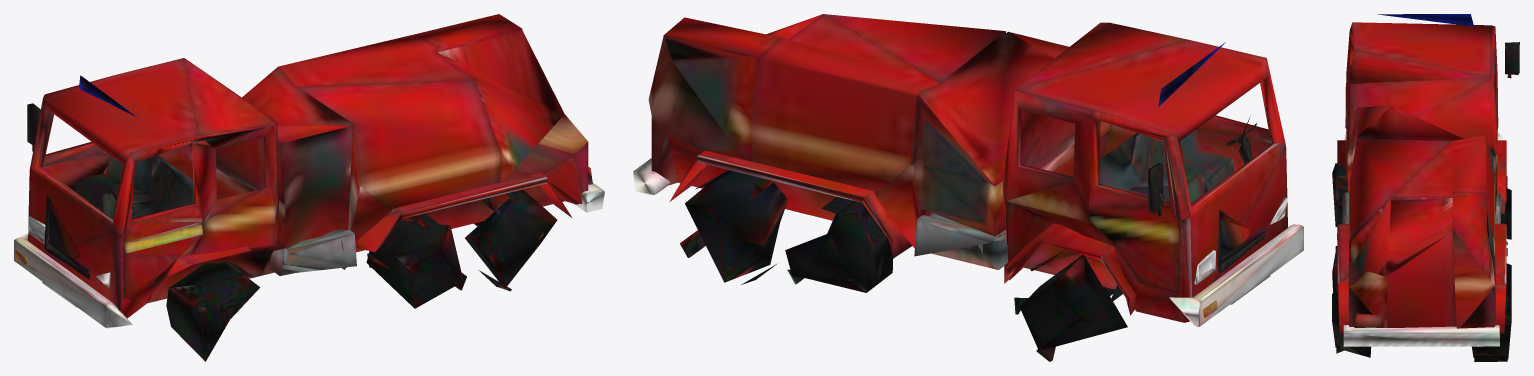
Rendered from 49-fire-truck.glb.
3 renders of one model, left to right at view 1: azimuth 30°, elevation 25°; view 2: azimuth 150°, elevation 25°; view 3: azimuth 270°, elevation 25°, orthographic. The views are drawn at different scales.
Parts seen in each view (by area): view 1: geometry_0; view 2: geometry_0; view 3: geometry_0.
Part boxes in pixels (x1,y1,x2,y2): geometry_0: (14,14,604,361); geometry_0: (633,14,1303,361); geometry_0: (1332,14,1519,361).
Size of the model in its own units: 0.9429 by 0.438 by 0.372.
1 material, 1 textured.
